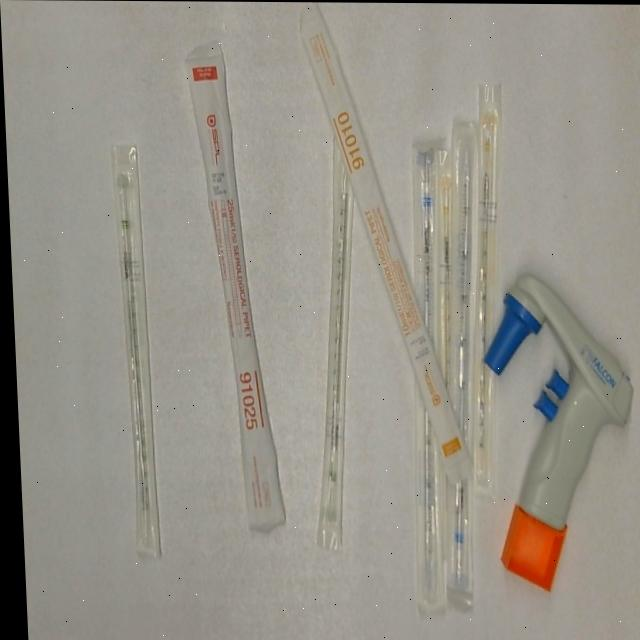Pipette Controller: (472, 267, 638, 595)
Serelogical Pipet 1 mL: (451, 82, 519, 489), (427, 147, 464, 381)
Serelogical Pipet 10 mL: (297, 2, 474, 487)
Serelogical Pipet 2 mL: (294, 127, 369, 552), (104, 139, 162, 563)
Serelogical Pipet 25 mL: (185, 38, 285, 541)
Serelogical Pipet 5 mL: (425, 112, 492, 593), (394, 141, 453, 615)
